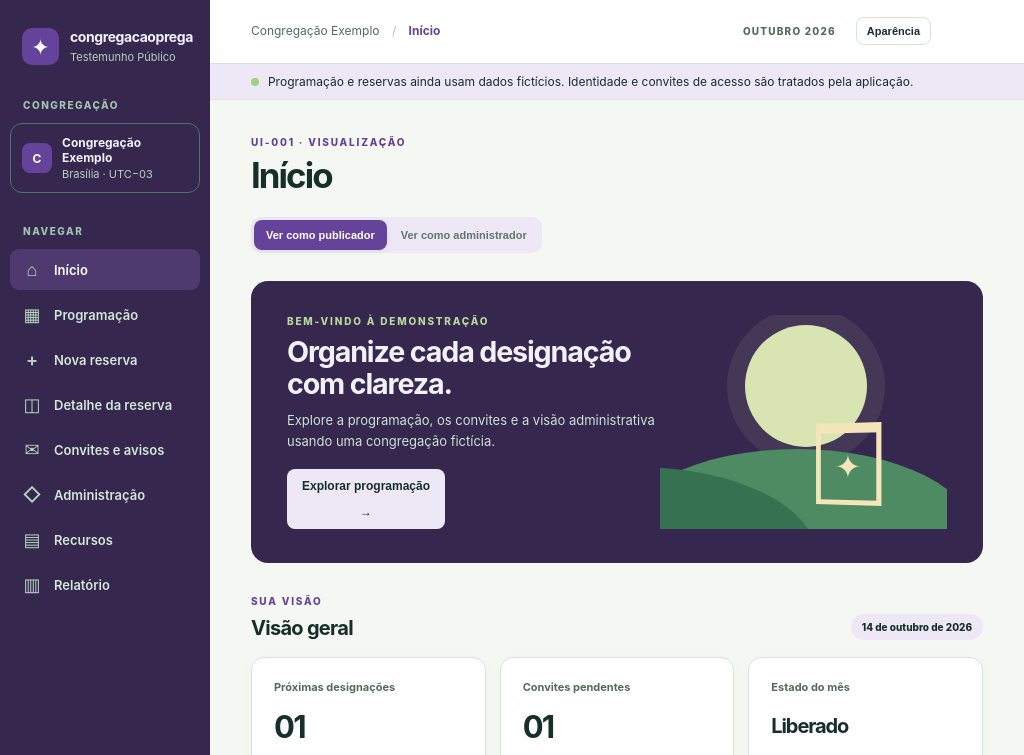
Test: UI-001 prototype journeys › accepts a pending invitation, rejects an expired one and resets the demo
This screenshot has width=1024, height=755.
Click the link "✉ Convites e avisos". click: (94, 449)
box: top-left (24, 438), bottom-right (164, 460)
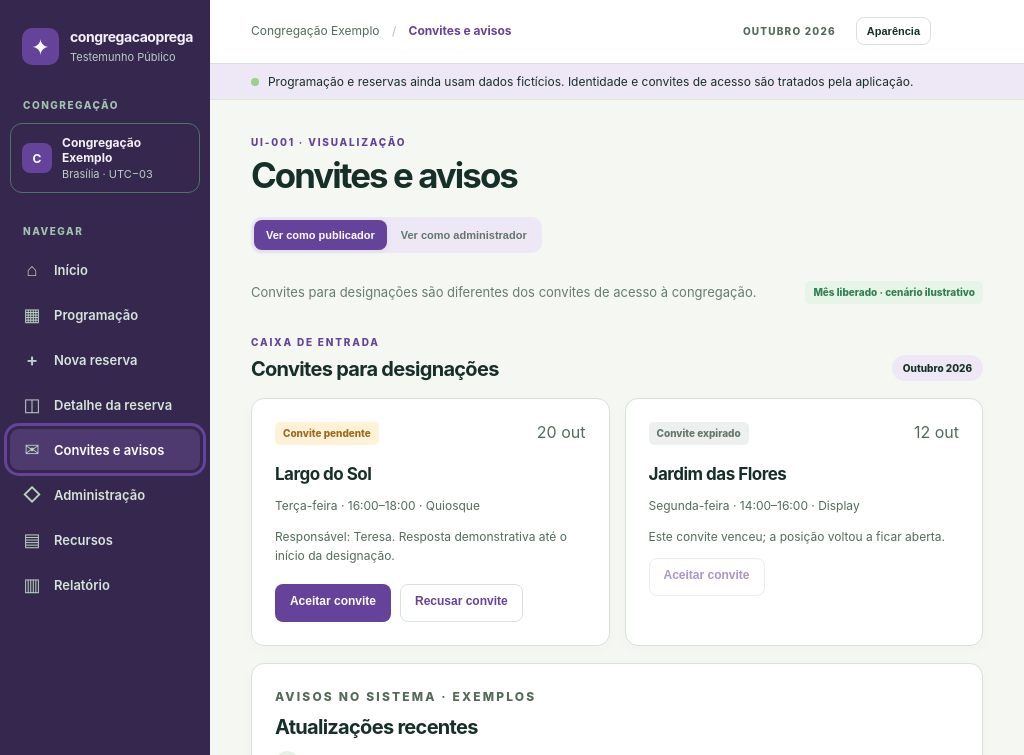
Expected: the text "Convite expirado" is shown, top-left (656, 427), bottom-right (741, 439)
Expected: the button "Aceitar convite" below "Segunda-feira · 14:00–16:00 · Display" is disabled, top-left (648, 558), bottom-right (764, 596)
Expected: the text "Convite pendente" is shown, top-left (283, 427), bottom-right (371, 439)
Click the button "Aceitar convite" below "Terça-feira · 16:00–18:00 · Quiosque". click: (333, 603)
box: top-left (275, 584), bottom-right (391, 622)
(page scrolled)
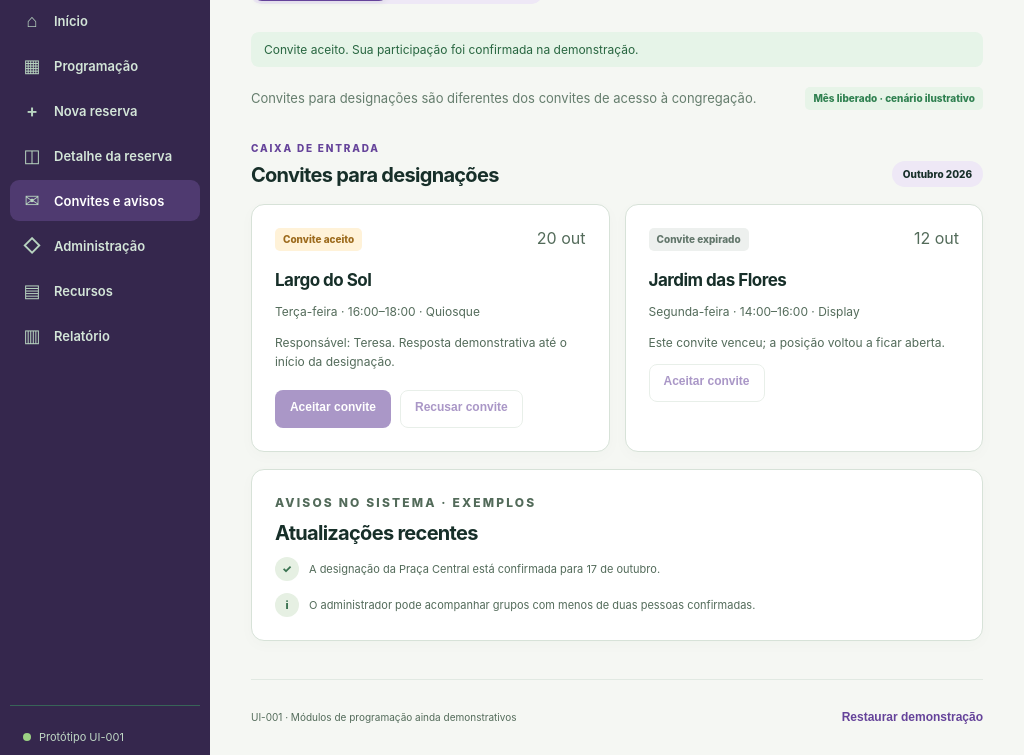
Expected: the message shows "Convite aceito", top-left (264, 42), bottom-right (639, 57)
Click the button "Restaurar demonstração". click: (912, 717)
box: top-left (842, 710), bottom-right (983, 724)
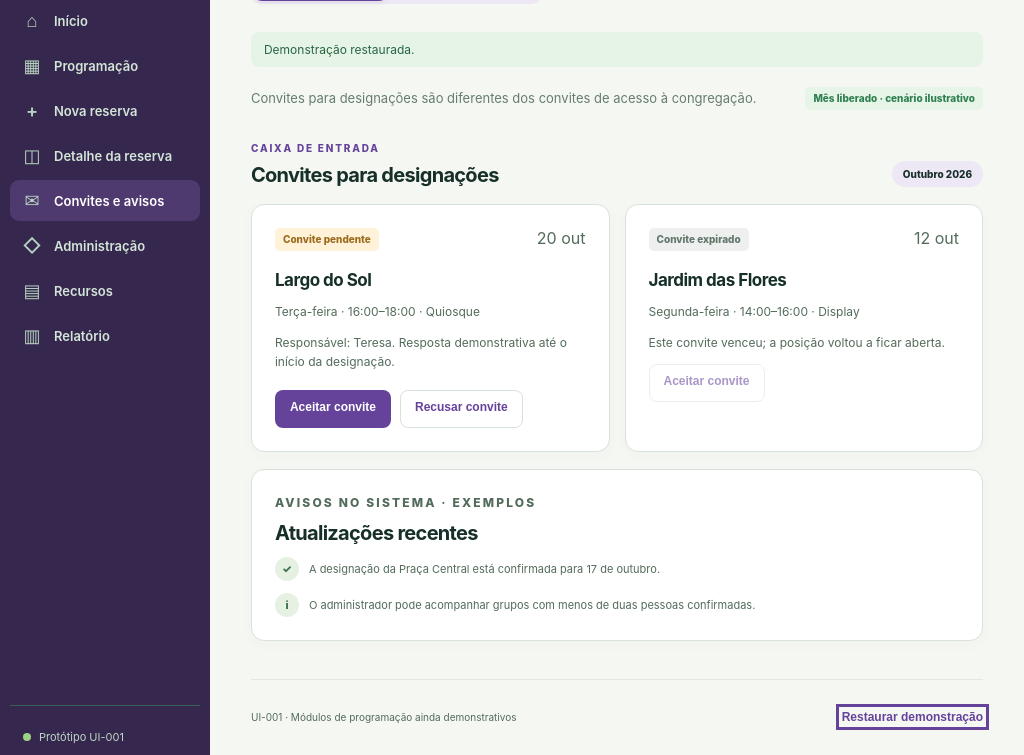
Expected: the text "Convite pendente" is shown, top-left (275, 228), bottom-right (379, 251)
